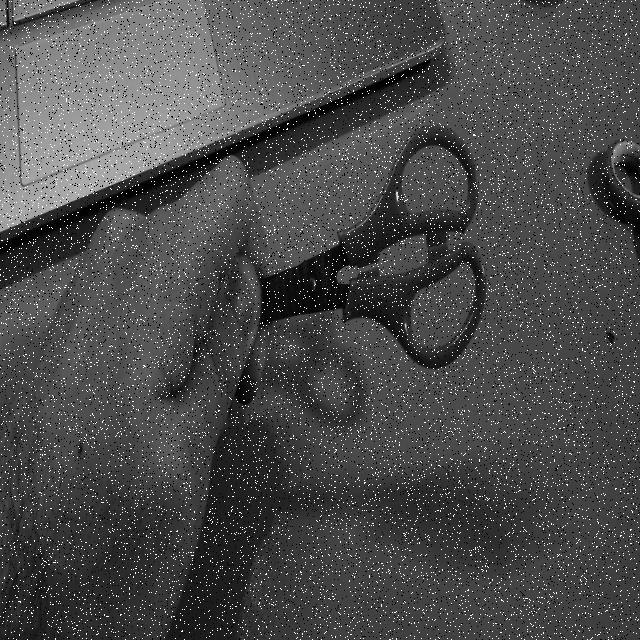scissors: (174, 81, 512, 399)
